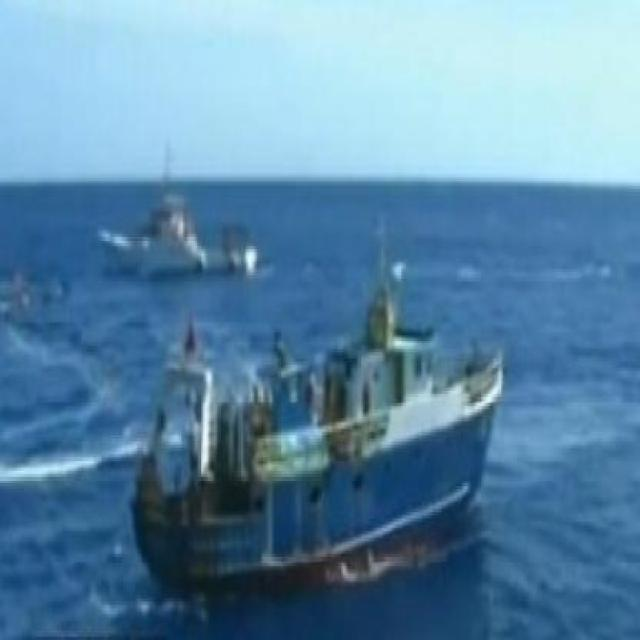fish-b: (131, 225, 514, 619)
